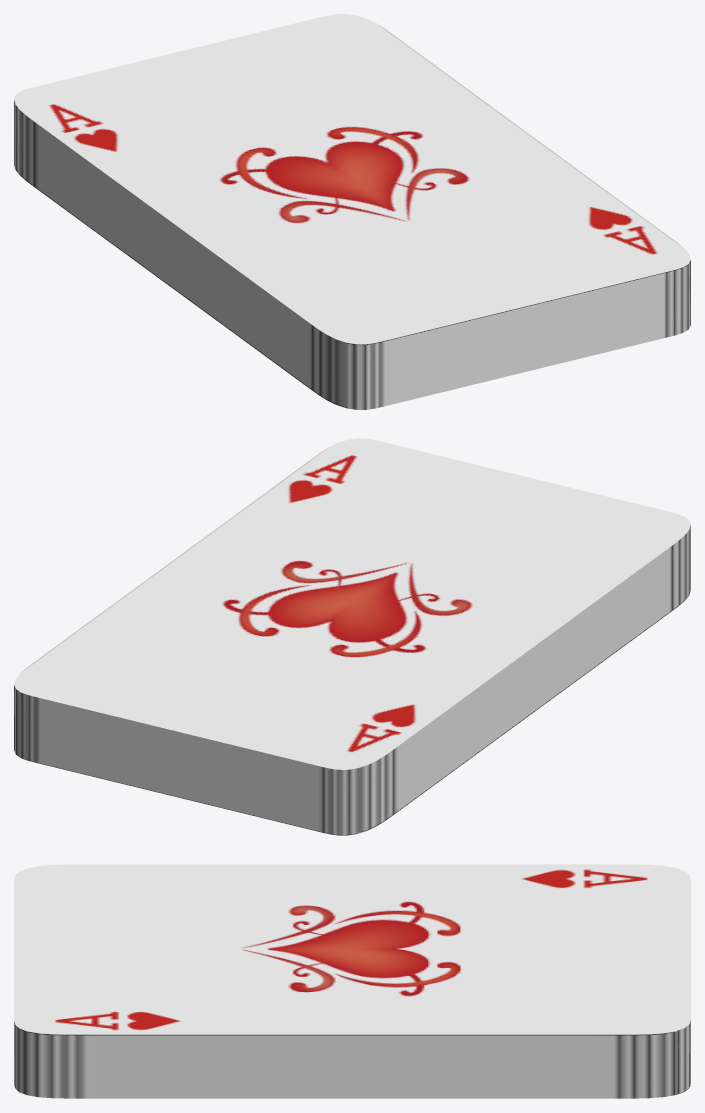
Rendered from ExportedBlenderFBXFile.fbx.
3 renders of one model, top to bottom at view 1: azimuth 30°, elevation 25°; view 2: azimuth 150°, elevation 25°; view 3: azimuth 270°, elevation 25°, orthographic. The views are drawn at different scales.
Parts seen in each view (by area): view 1: Cube; view 2: Cube; view 3: Cube.
Boxes of the visible parts, x1=… form: Cube: x1=14, y1=14, x2=690, y2=409; Cube: x1=14, y1=438, x2=690, y2=835; Cube: x1=14, y1=864, x2=690, y2=1098.
Bounding box in the file's own units: 2 × 0.35 × 3.36.
